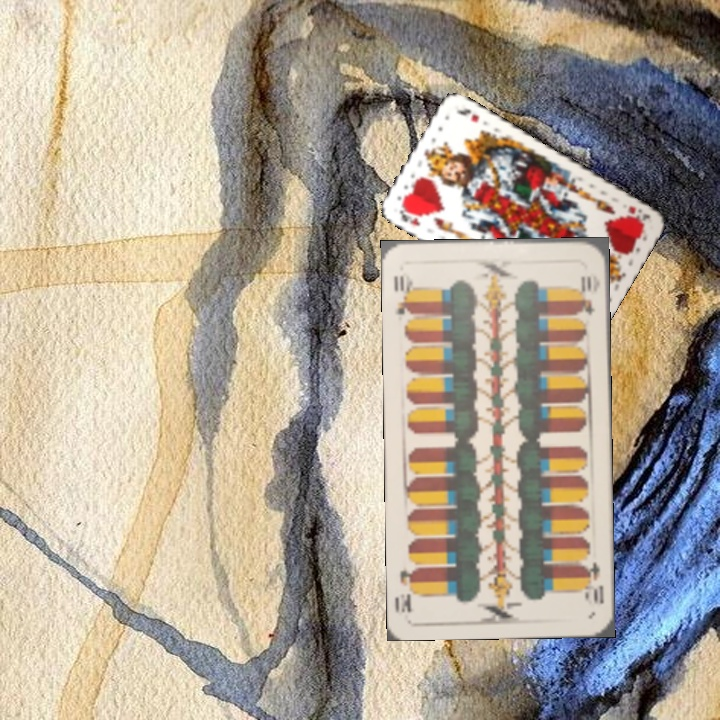E10: (578, 558, 606, 606), (390, 268, 416, 317)
HK: (623, 201, 653, 227), (395, 202, 425, 228)
